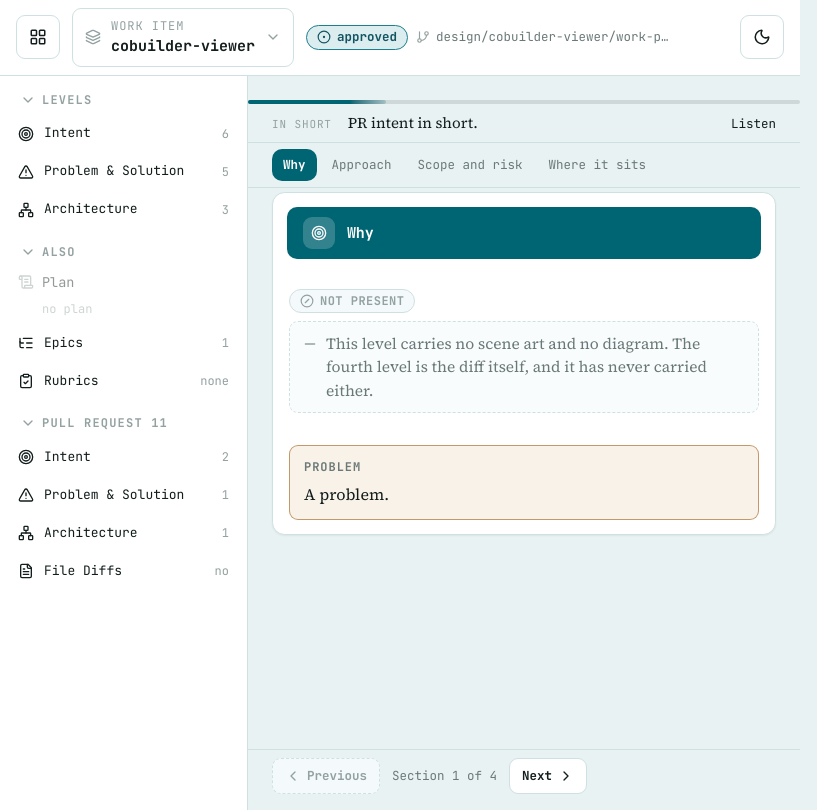
Test: In Short on the pull request › draws Listen when the file is served, and toggles to Pause and back
Click the button "Listen". click: [754, 124]
box: 731,114 -> 776,133
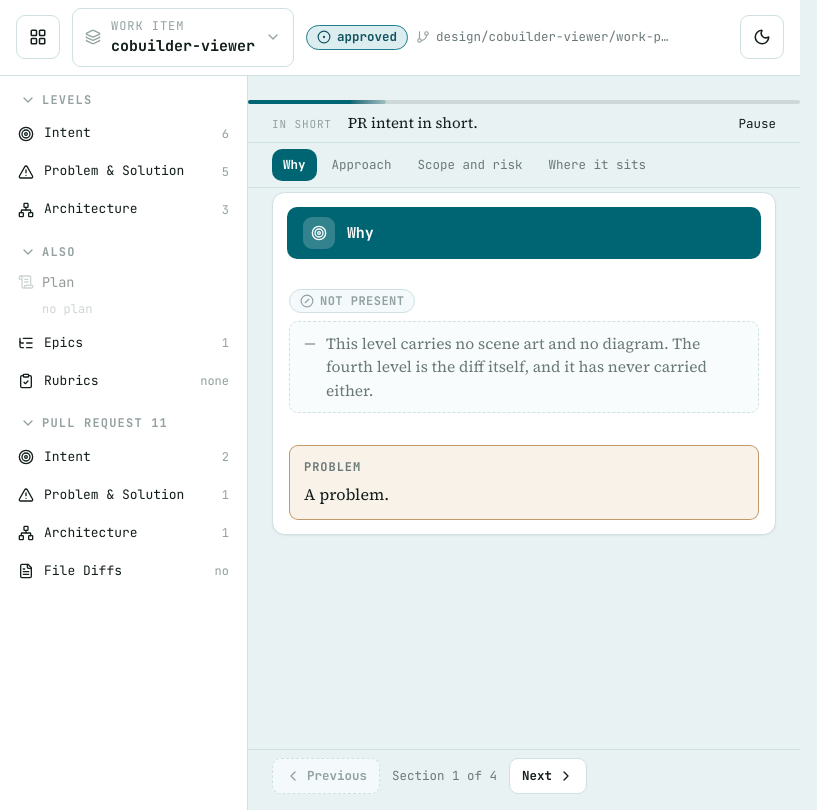
Result: the button "Pause" is shown
Click the button "Pause". click: [757, 124]
box: 738,114 -> 776,133
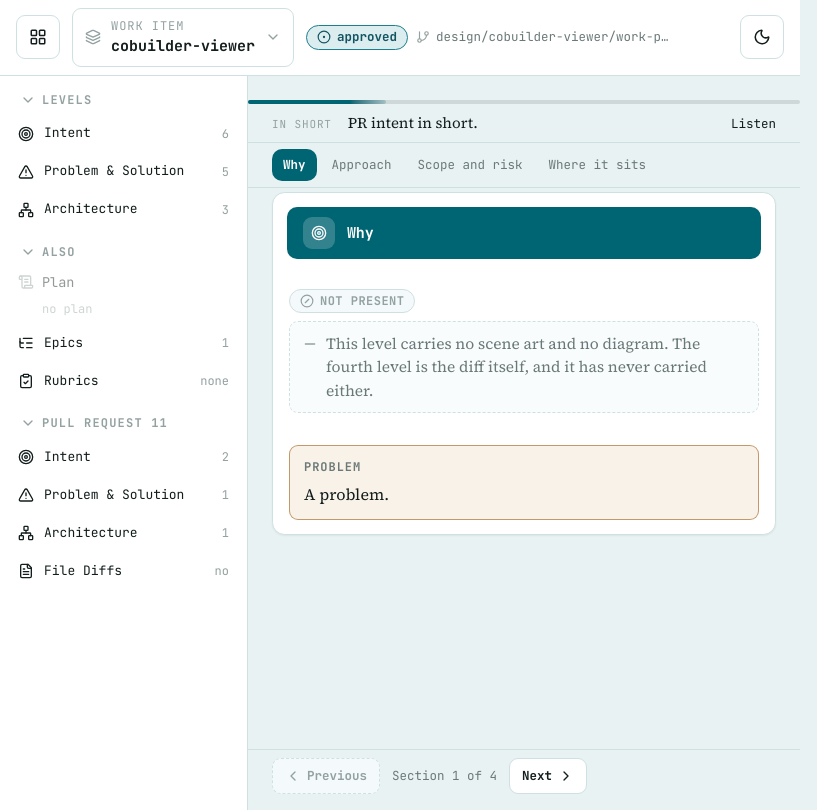
Result: the button "Listen" is shown at 731,114 -> 776,133
